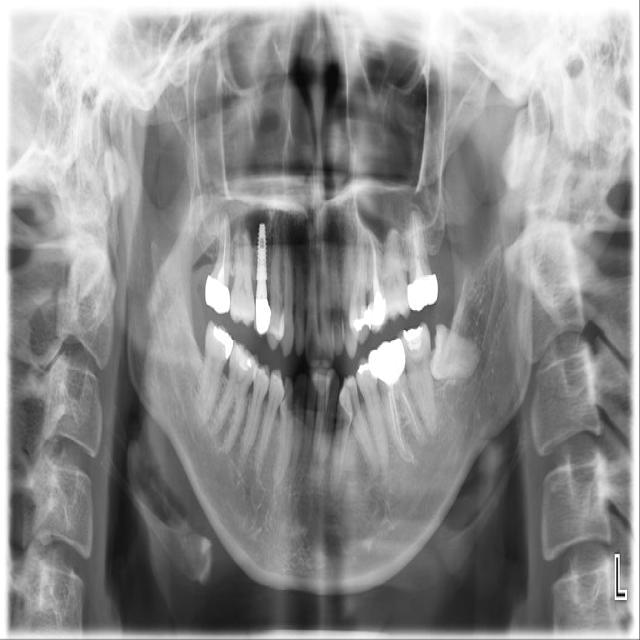Crown: (368, 338, 405, 386), (407, 273, 438, 312), (205, 276, 230, 314), (252, 297, 271, 337), (367, 299, 387, 334)
Filling: (398, 321, 432, 371), (231, 340, 258, 388), (350, 304, 370, 344), (355, 357, 375, 392), (210, 330, 235, 355)
Implant: (257, 223, 267, 298)
Root Canal Treatment: (402, 393, 421, 432), (391, 392, 404, 448), (413, 211, 421, 277), (371, 239, 379, 300), (391, 398, 401, 446), (220, 227, 225, 272)
impacted tooth: (427, 326, 483, 379)
